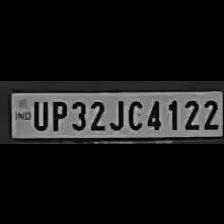1: (163, 96, 179, 130)
2: (86, 96, 106, 130), (180, 96, 200, 130), (198, 96, 218, 130)
3: (68, 96, 86, 130)
4: (144, 96, 162, 130)
C: (124, 96, 142, 130)
J: (107, 96, 125, 130)
P: (48, 96, 68, 130)
U: (30, 96, 48, 130)
